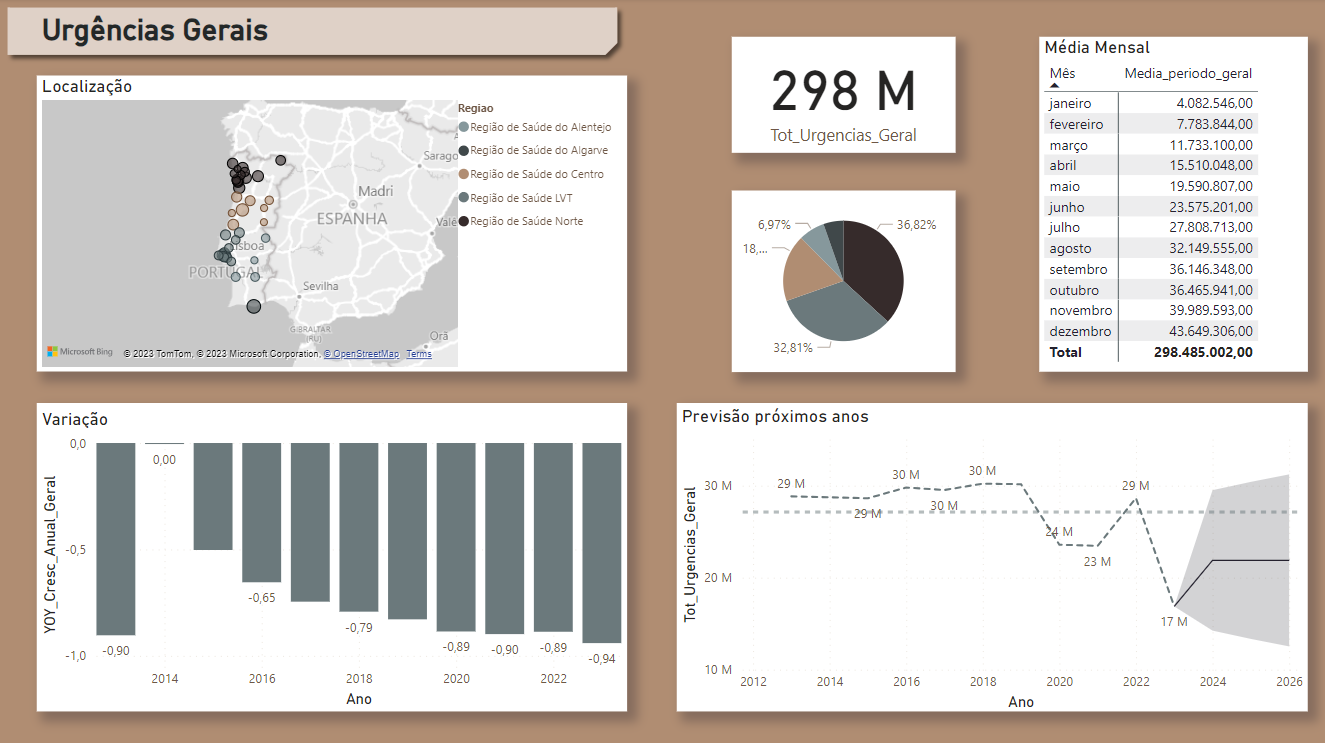

The dashboard page shown, as its layout file describes it:
{"tool":"powerbi","page":{"name":"Geral","canvas":[1280,720],"ordinal":2},"visuals":[{"type":"map","title":"Localização","fields":{"Category":["atendimentos-por-tipo-de-urgencia-hospitalar-link.Localizacao_Geografica"],"Series":["atendimentos-por-tipo-de-urgencia-hospitalar-link.Regiao"],"Size":["Medidas.Tot_Urgencias_Geral"]},"box":[37.4,74.8,569.2,285.8],"z":0},{"type":"lineChart","title":"Previsão próximos anos","fields":{"Category":["Date.Ano"],"Y":["Medidas.Tot_Urgencias_Geral"]},"box":[654.9,390.8,609,297.9],"z":1000},{"type":"clusteredColumnChart","title":"Variação","fields":{"Category":["Date.Ano"],"Y":["_Medidas_urg.YOY_Cresc_Anual_Geral"]},"box":[37.4,390.8,569.2,297.9],"z":2000},{"type":"pivotTable","title":"Média Mensal","fields":{"Rows":["Calendario.Date.Variação.Hierarquia de Datas.Mês"],"Values":["_Medidas.Media_periodo_geral"]},"box":[1004.6,37.4,259.3,323.2],"z":3000},{"type":"card","fields":{"Values":["Medidas.Tot_Urgencias_Geral"]},"box":[707.9,37.4,215.9,112.2],"z":4000},{"type":"pieChart","fields":{"Category":["atendimentos-por-tipo-de-urgencia-hospitalar-link.Regiao"],"Y":["Medidas.Tot_Urgencias_Geral"]},"box":[707.9,185.7,215.9,174.9],"z":5000},{"type":"shape","box":[0,0,606.6,63.9],"z":6000},{"type":"textbox","box":[37.4,8.4,326.8,49.4],"z":7000}]}

Visuals, with their boxes in screenshot pixels (x1, y1, x2, y2), scaled from the page's 1280x720 canvas onto the 1325x743 screenshot:
"Localização" map: <region>39, 77, 628, 372</region>
"Previsão próximos anos" lineChart: <region>678, 403, 1308, 711</region>
"Variação" clusteredColumnChart: <region>39, 403, 628, 711</region>
"Média Mensal" pivotTable: <region>1040, 39, 1308, 372</region>
card - Medidas.Tot_Urgencias_Geral: <region>733, 39, 956, 154</region>
pieChart - atendimentos-por-tipo-de-urgencia-hospitalar-link.Regiao x Medidas.Tot_Urgencias_Geral: <region>733, 192, 956, 372</region>
shape: <region>0, 0, 628, 66</region>
textbox: <region>39, 9, 377, 60</region>
